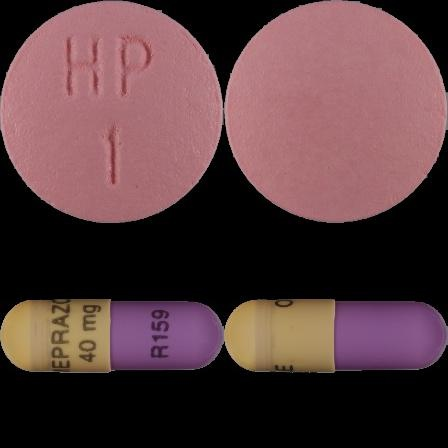68084-447: (0, 0, 224, 224)
